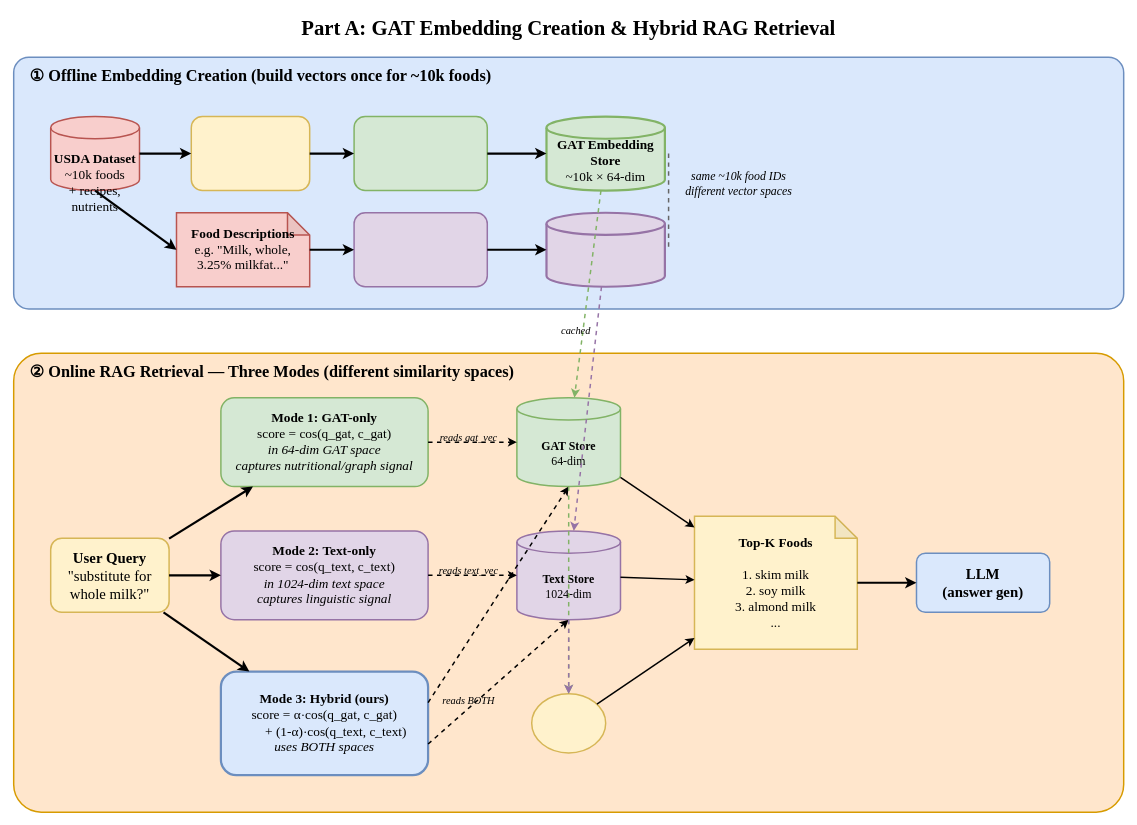
Some shapes in this 1137 by 825 pixel diagram are drawn without their labels. The shapes that lost their labels are listed below. From the top down, each one's centre as x and y in pixels, then its label:
At pixel 250 153: "Knowledge Graph food + nutrient + recipe + tag G = (V, E)".
At pixel 420 153: "GAT Model 2-layer GATv2 trained on: nutrient regression + substitution".
At pixel 420 249: "Qwen3 Embedder pretrained text encoder".
At pixel 605 249: "Text Embedding Store ~10k × 1024-dim".
At pixel 568 723: "weighted sum".
